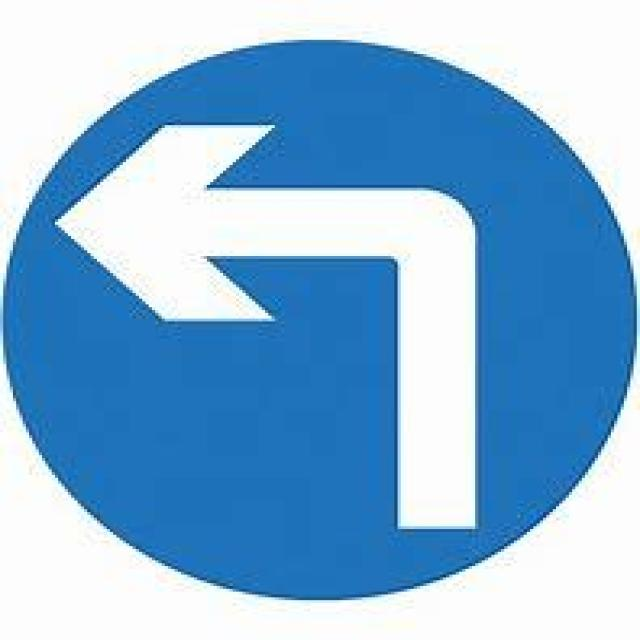left_turn: (0, 34, 637, 597)
